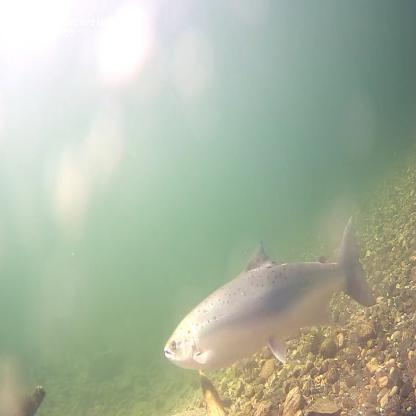salmon: (163, 210, 378, 373)
